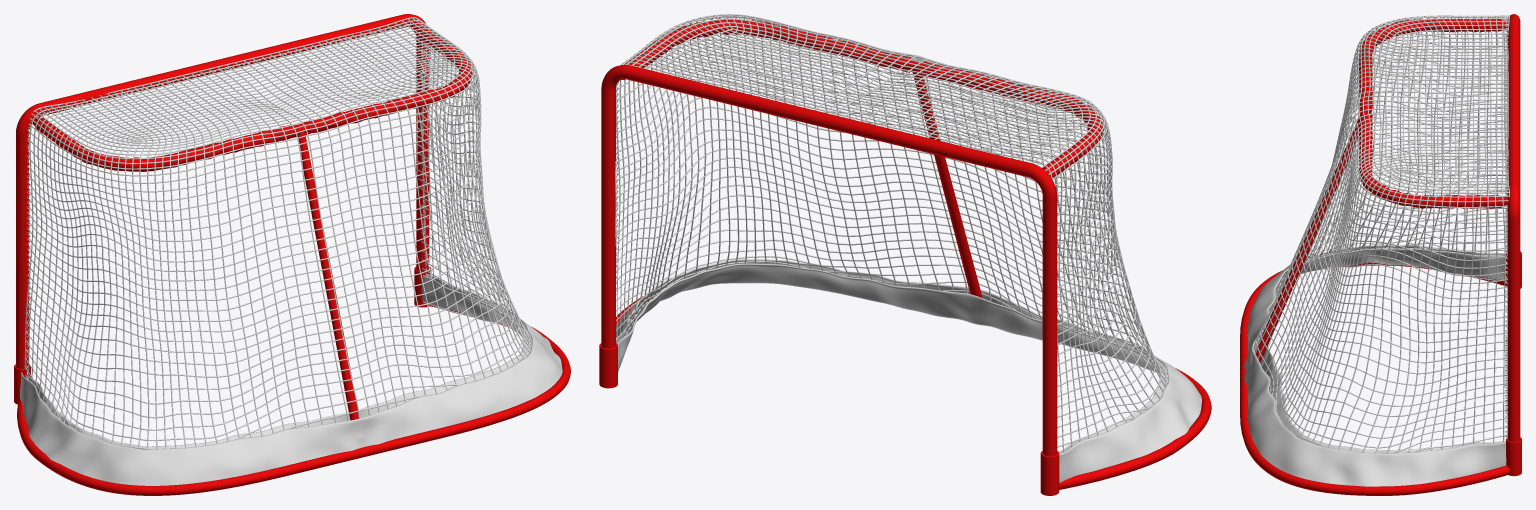
The model's file is porteria.fbx.
3 renders of one model, left to right at view 1: azimuth 30°, elevation 25°; view 2: azimuth 150°, elevation 25°; view 3: azimuth 270°, elevation 25°, orthographic. The views are drawn at different scales.
Visible parts, largest first — view 1: Hockey Gates model; view 2: Hockey Gates model; view 3: Hockey Gates model.
Part boxes in pixels (bbox=[...]): Hockey Gates model: bbox=[14, 14, 570, 495]; Hockey Gates model: bbox=[599, 14, 1211, 495]; Hockey Gates model: bbox=[1240, 14, 1521, 495].
Bounding box in the file's own units: 182 × 101 × 92.71.
